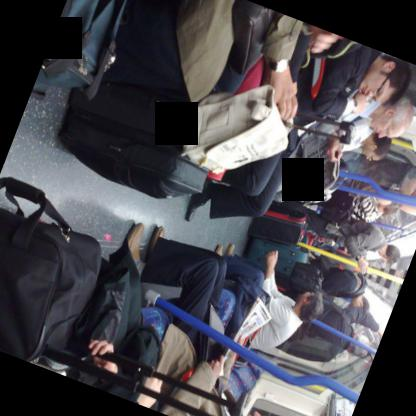backpack: (318, 254, 358, 272)
handbag: (183, 83, 290, 176), (287, 261, 351, 326), (225, 0, 275, 75), (295, 157, 348, 206), (318, 187, 365, 238), (115, 321, 160, 367), (349, 180, 376, 197)
suitcase: (53, 61, 207, 194), (0, 176, 99, 363), (28, 0, 131, 100), (244, 235, 307, 276), (245, 204, 308, 243)
